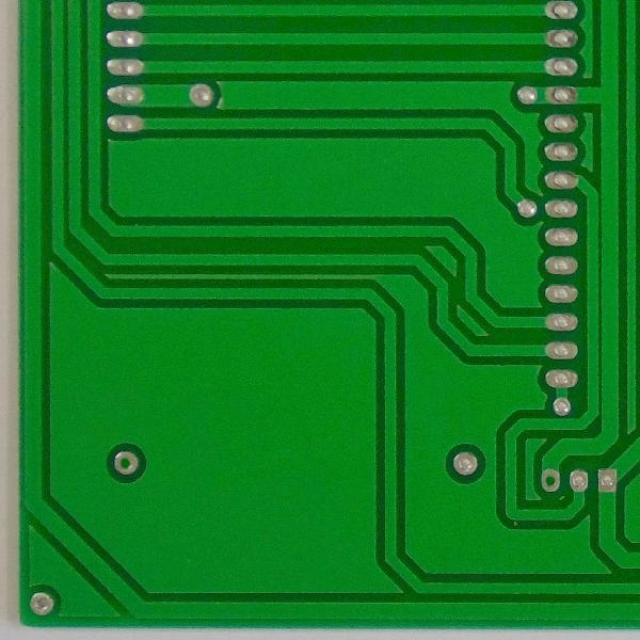missing_hole: (111, 448, 141, 481), (538, 467, 565, 494)
